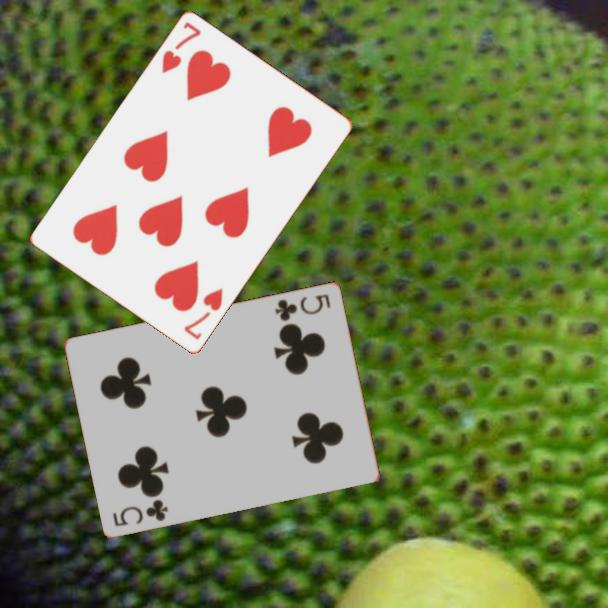c05: (272, 290, 334, 324), (109, 495, 171, 529)
h07: (180, 285, 226, 343), (158, 19, 204, 77)
